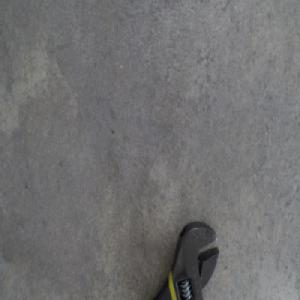AdjustableWrench: (153, 220, 220, 299)
